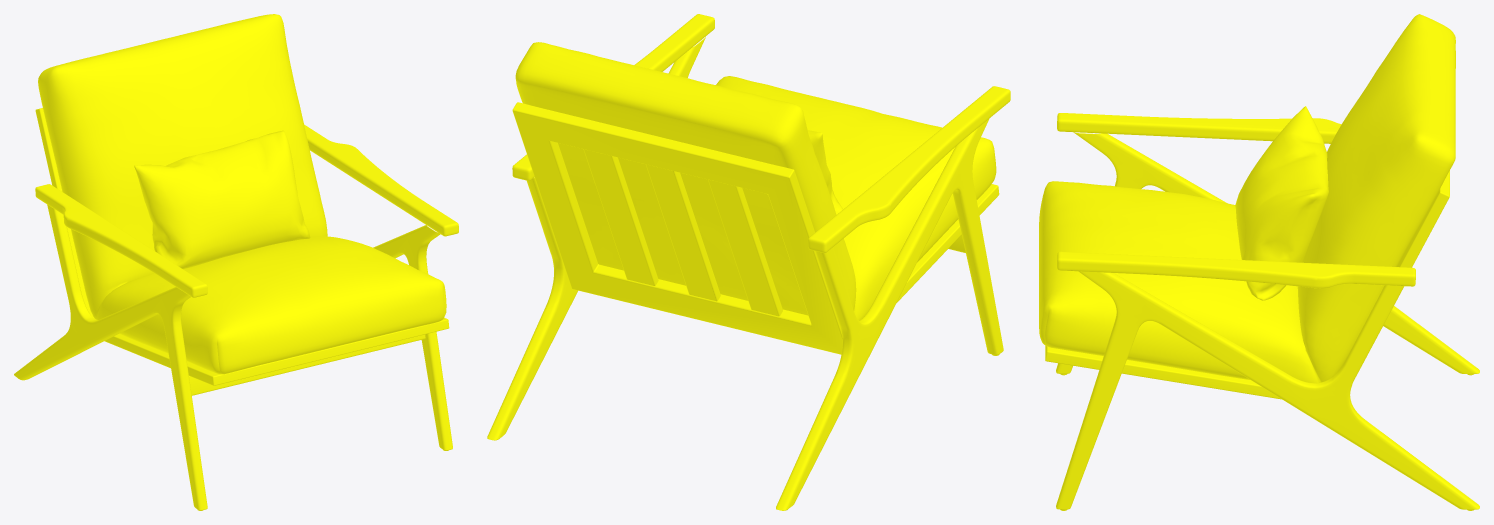
File: SM_Armchair.glb
3 views of the same model, side by side, from view 1: azimuth 30°, elevation 25°; view 2: azimuth 150°, elevation 25°; view 3: azimuth 270°, elevation 25° (orthographic). The views are drawn at different scales.
Parts seen in each view (by area): view 1: SM_Armchair; view 2: SM_Armchair; view 3: SM_Armchair.
Part boxes in pixels (box(x1,y1,x2,y2)): SM_Armchair: box(14, 14, 458, 510); SM_Armchair: box(487, 14, 1010, 510); SM_Armchair: box(1039, 14, 1479, 510).
Bounding box in the file's own units: 0.755 × 0.8075 × 0.8798.
3 materials, 3 textured.
